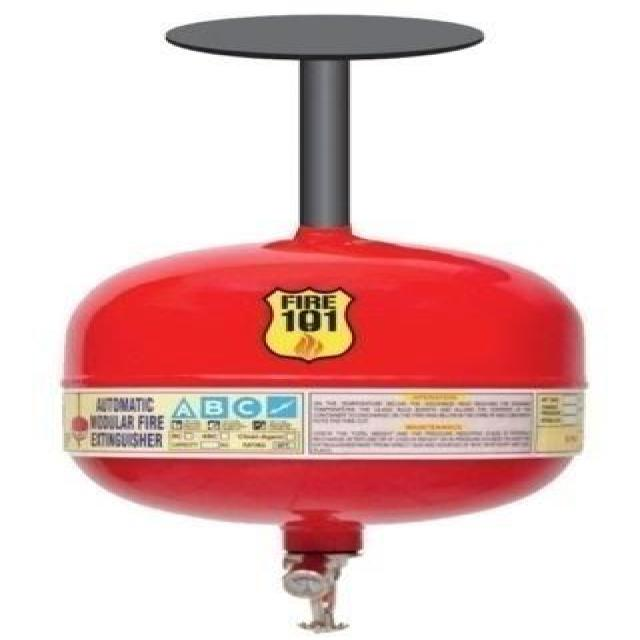fire_extinguisher: (52, 221, 608, 639)
